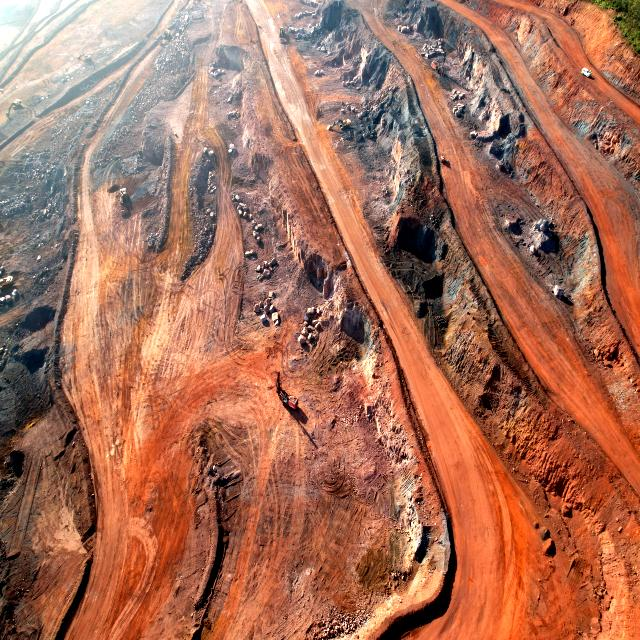Blast rig: (274, 368, 299, 411), (432, 48, 446, 78)
Excavator: (326, 118, 352, 132), (118, 186, 129, 218), (6, 98, 23, 118), (0, 274, 13, 290), (77, 53, 92, 61), (279, 26, 285, 44)
car: (581, 66, 591, 78)
person: (590, 72, 592, 76), (590, 69, 591, 73)
